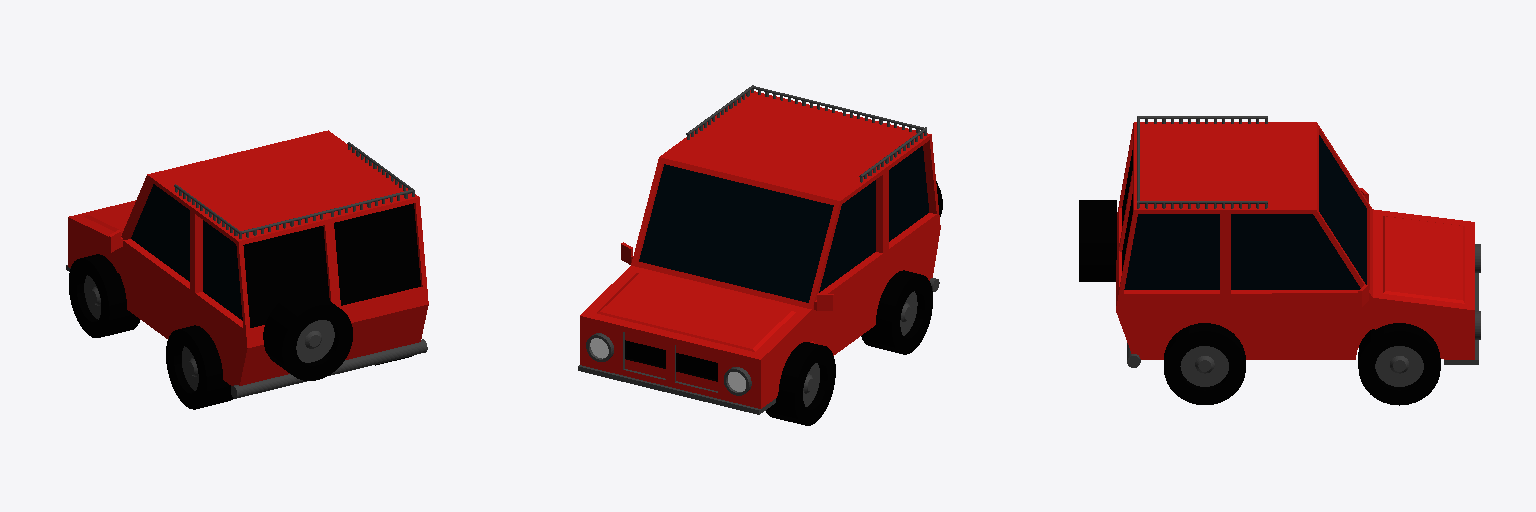
File: RedCar.obj
3 views of the same model, side by side, from view 1: azimuth 30°, elevation 25°; view 2: azimuth 150°, elevation 25°; view 3: azimuth 270°, elevation 25° (orthographic).
Visible parts, largest first — view 1: Cube_Cube.001, Cylinder.004, Cylinder.003, Cylinder.001, Cube.001_Cube.002; view 2: Cube_Cube.001, Cylinder.001, Cylinder.003, Cylinder.002; view 3: Cube_Cube.001, Cylinder.003, Cylinder.001, Cylinder.004.
Part boxes in pixels (x1,y1,x2,y2): Cube_Cube.001: (66, 130, 428, 385); Cylinder.004: (263, 291, 352, 380); Cylinder.003: (69, 254, 139, 337); Cylinder.001: (166, 325, 413, 409); Cube.001_Cube.002: (231, 339, 427, 398); Cube_Cube.001: (578, 85, 940, 414); Cylinder.001: (861, 270, 932, 354); Cylinder.003: (766, 342, 835, 425); Cylinder.002: (586, 333, 751, 395); Cube_Cube.001: (1116, 116, 1478, 364); Cylinder.003: (1358, 323, 1440, 405); Cylinder.001: (1164, 323, 1245, 404); Cylinder.004: (1079, 200, 1116, 281).
Bounding box in the file's own units: 1.81 × 1.57 × 2.94.